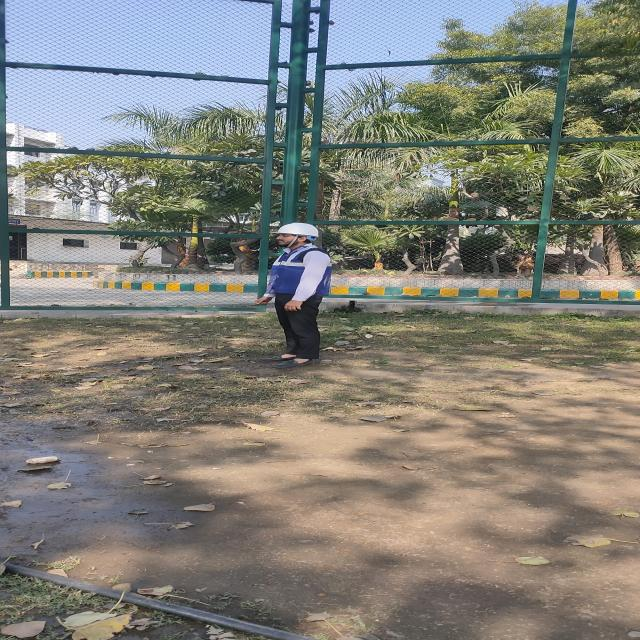safe: (256, 223, 332, 367)
